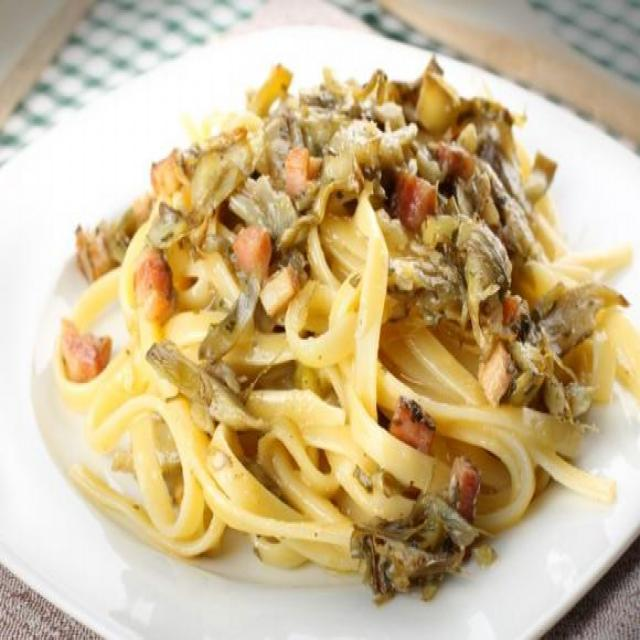Pasta with carbonara sauce: (57, 32, 629, 626)
